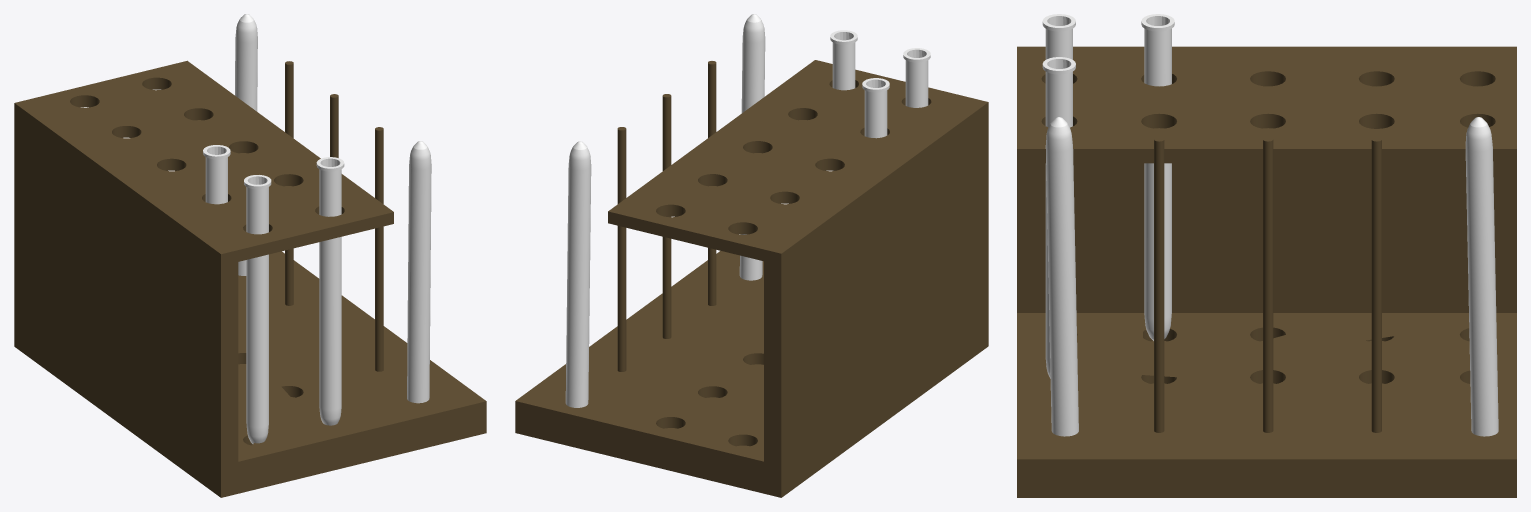
Rendered from TestTubeRack.fbx.
3 views of the same model, side by side, from view 1: azimuth 30°, elevation 25°; view 2: azimuth 150°, elevation 25°; view 3: azimuth 270°, elevation 25° (orthographic). The views are drawn at different scales.
Visible parts, largest first — view 1: pasted__pasted__pasted__polySurface1; view 2: pasted__pasted__pasted__polySurface1; view 3: pasted__pasted__pasted__polySurface1.
Boxes of the visible parts, x1,y1,x2,y2 form: pasted__pasted__pasted__polySurface1: [14, 14, 486, 497]; pasted__pasted__pasted__polySurface1: [515, 14, 988, 497]; pasted__pasted__pasted__polySurface1: [1017, 14, 1516, 497].
Size of the model in its own units: 60.68 by 63.62 by 81.81.
